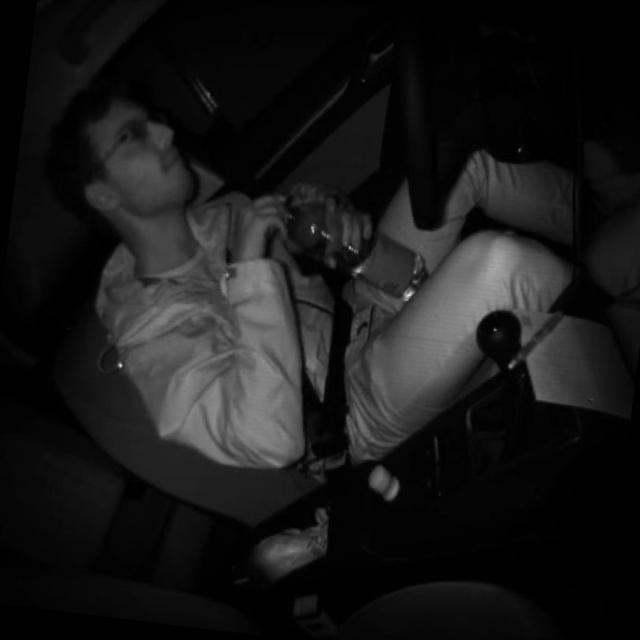pen: (503, 300, 568, 377)
